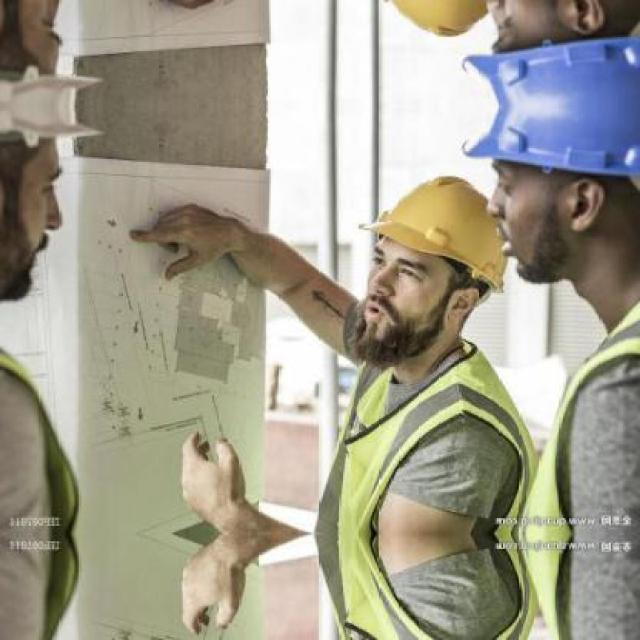safetyhelmet: (473, 70, 633, 218), (359, 171, 493, 286)
